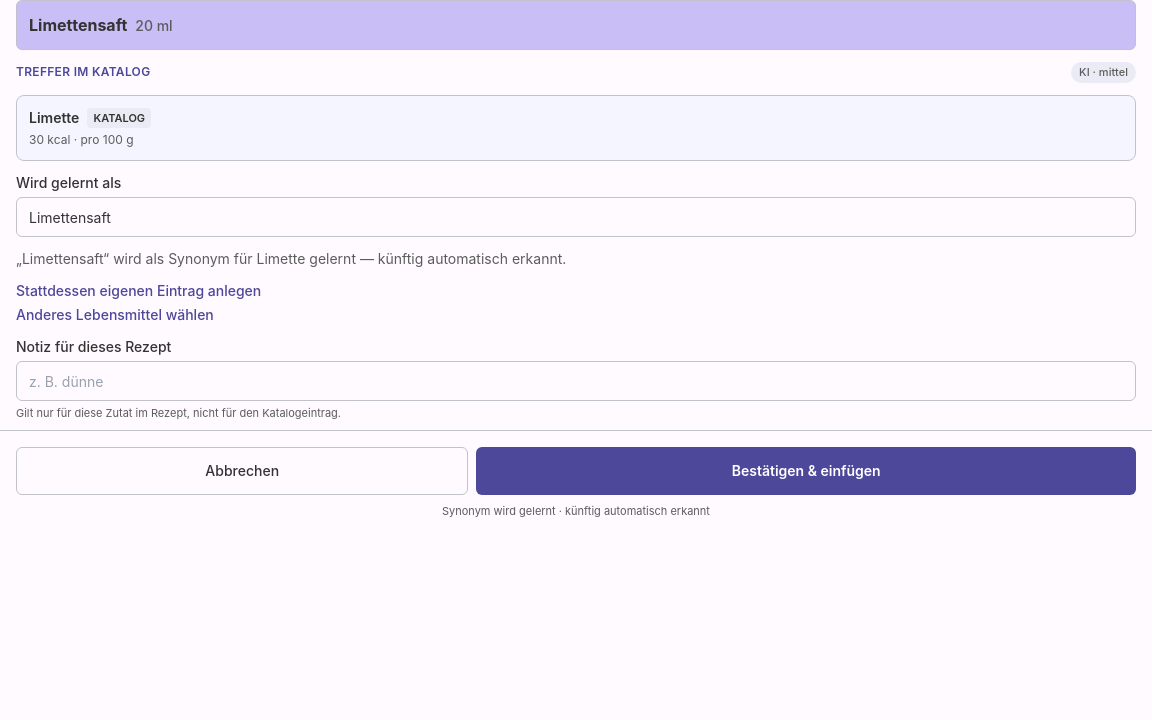
it: rejecting a synonym proposal for an own entry › drafts a fresh entry for the raw name and opens it in the editor
The width and height of the screenshot is (1152, 720).
Click the button "Stattdessen eigenen Eintrag anlegen".
click(139, 291)  # box [16, 281, 261, 301]
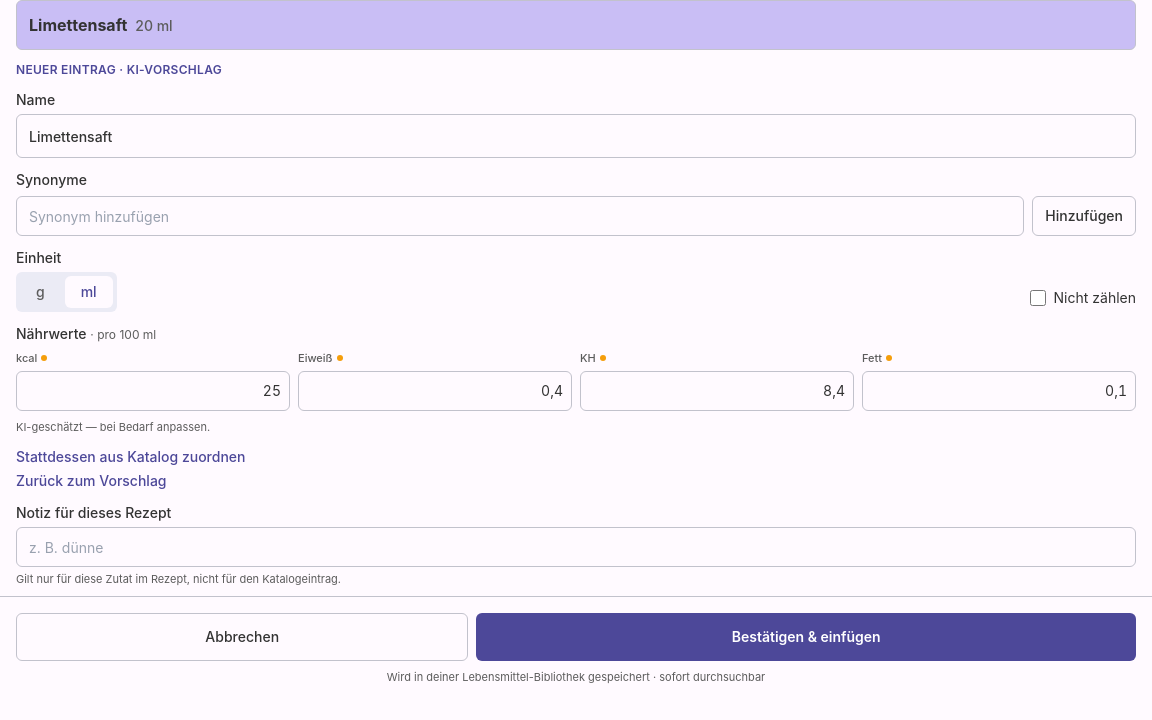
Expected: the field labelled "Name" holds "Limettensaft", [16, 114, 1136, 158]
Expected: the field labelled "kcal" holds "25", [16, 370, 290, 410]
